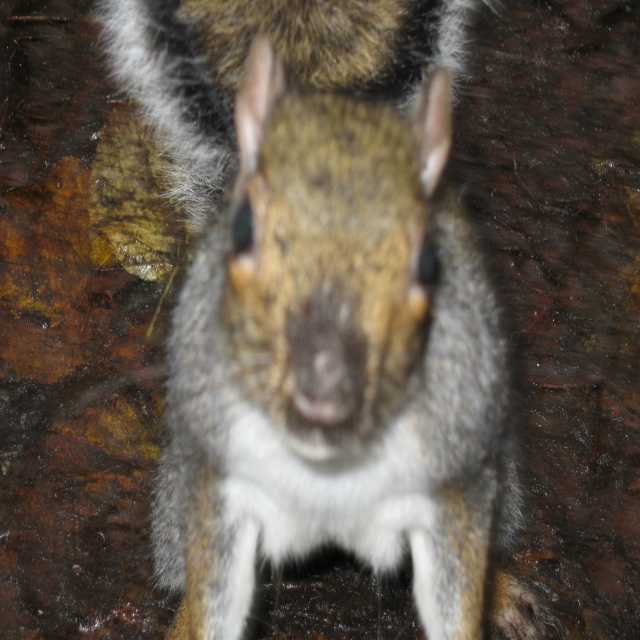Rabbit: (84, 0, 565, 639)
